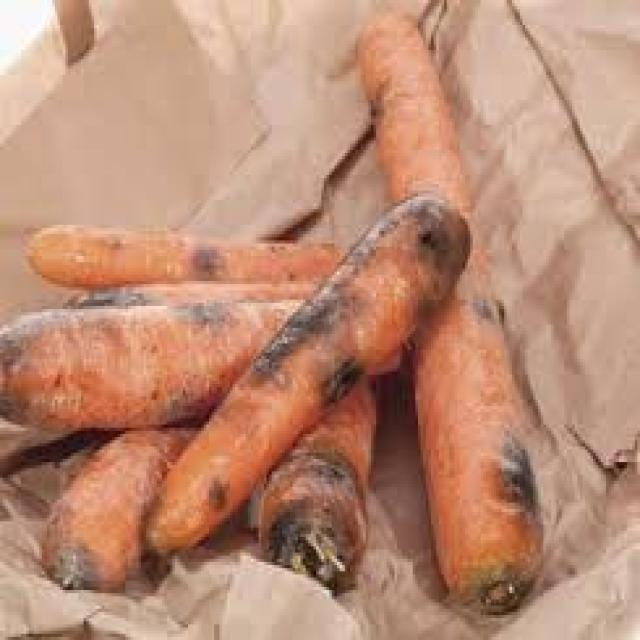Stale_Carrot: (146, 192, 469, 572), (153, 215, 463, 557), (408, 299, 547, 624), (419, 376, 544, 610), (3, 307, 280, 412), (260, 386, 381, 594), (261, 459, 372, 602)
